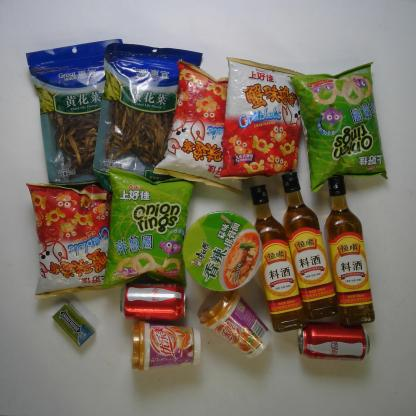Dried Food: (92, 42, 203, 196), (25, 39, 123, 191)
Drink: (298, 322, 370, 361), (119, 281, 187, 321)
Gum: (52, 301, 96, 347)
Instant Drink: (197, 287, 272, 359), (131, 321, 202, 371)
Instant Noodles: (182, 210, 264, 292)
Puffed Food: (287, 61, 389, 193), (153, 59, 244, 197), (100, 167, 198, 290), (219, 57, 302, 180), (26, 182, 111, 299)
Seasoner: (249, 184, 308, 333), (280, 172, 338, 320), (324, 174, 376, 326)
